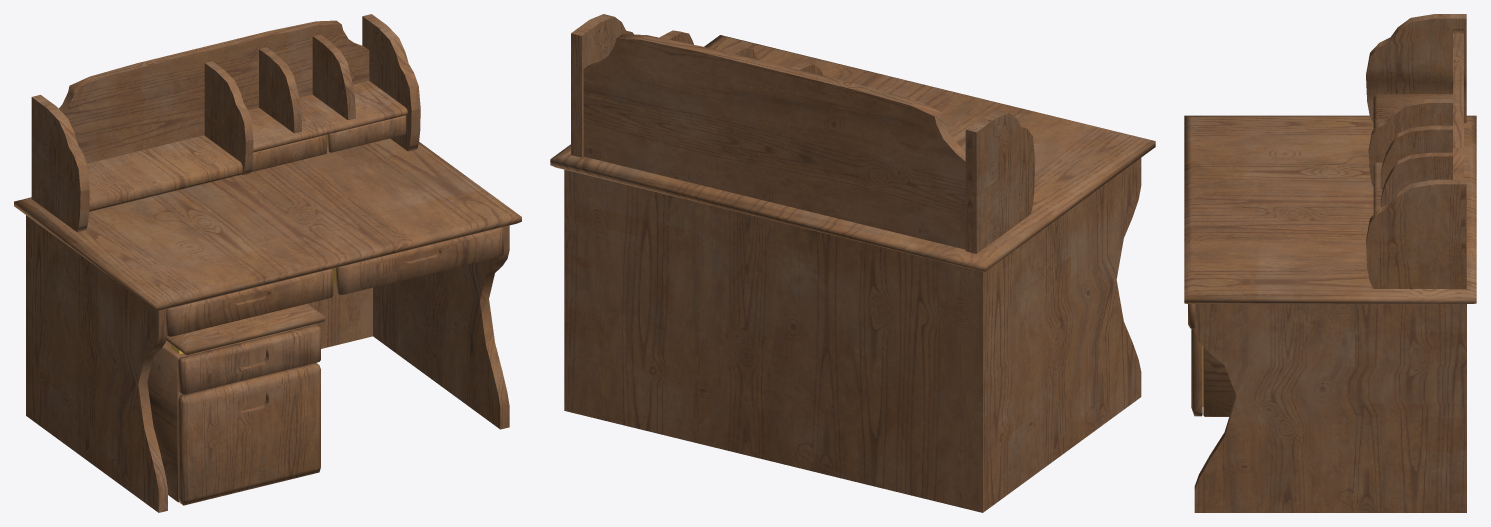
File: StudyDesk.fbx
3 renders of one model, left to right at view 1: azimuth 30°, elevation 25°; view 2: azimuth 150°, elevation 25°; view 3: azimuth 270°, elevation 25°, orthographic. The views are drawn at different scales.
Visible parts, largest first — view 1: StudyDesk_Body, StudyDesk_Shelf, StudyDesk_Box; view 2: StudyDesk_Body, StudyDesk_Shelf; view 3: StudyDesk_Body, StudyDesk_Shelf, StudyDesk_Box.
Part boxes in pixels (x1,y1,x2,y2): StudyDesk_Body: (14, 138, 521, 512); StudyDesk_Shelf: (31, 14, 420, 232); StudyDesk_Box: (147, 303, 325, 505); StudyDesk_Body: (550, 35, 1155, 512); StudyDesk_Shelf: (571, 14, 1035, 253); StudyDesk_Body: (1184, 115, 1476, 512); StudyDesk_Shelf: (1366, 14, 1466, 288); StudyDesk_Box: (1191, 328, 1235, 416).
Size of the model in its own units: 389 by 333 by 263.
Materials: 4 (3 with a texture image).
